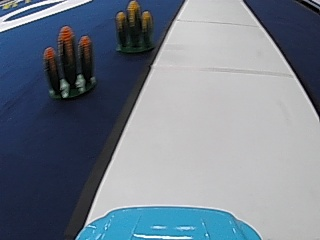corn: (44, 25, 97, 101), (113, 1, 155, 53)
